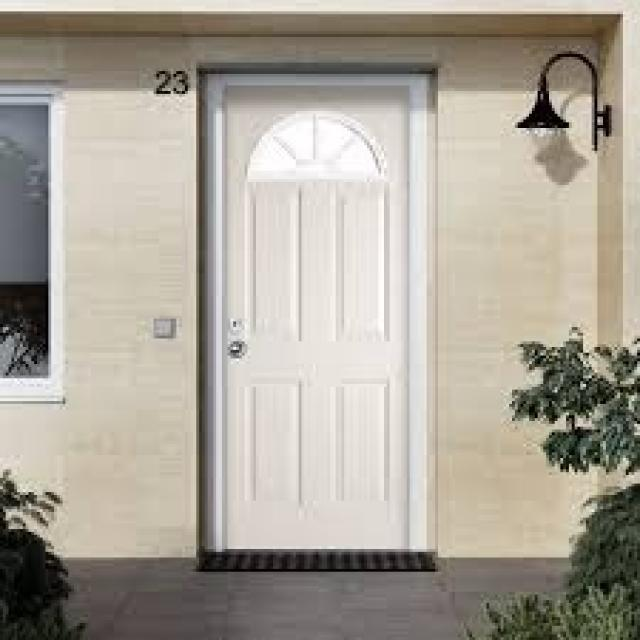door: (218, 77, 416, 554)
